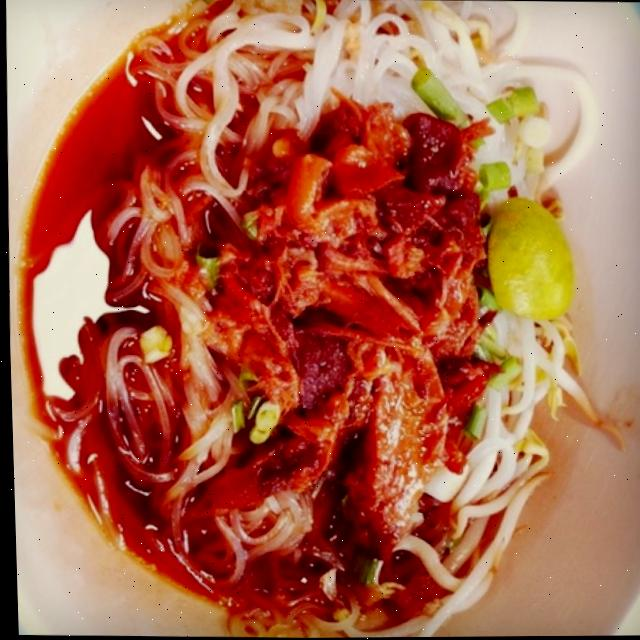猪肉菜式: (25, 13, 598, 631)
